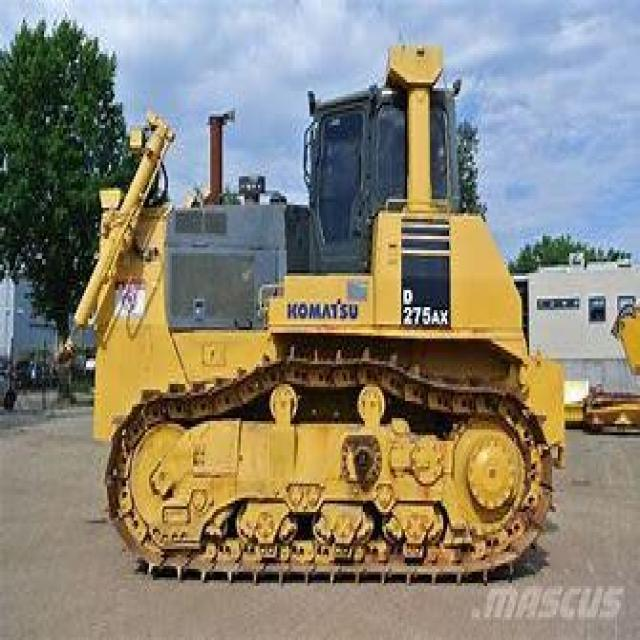Bulldozer: (75, 31, 568, 600)
